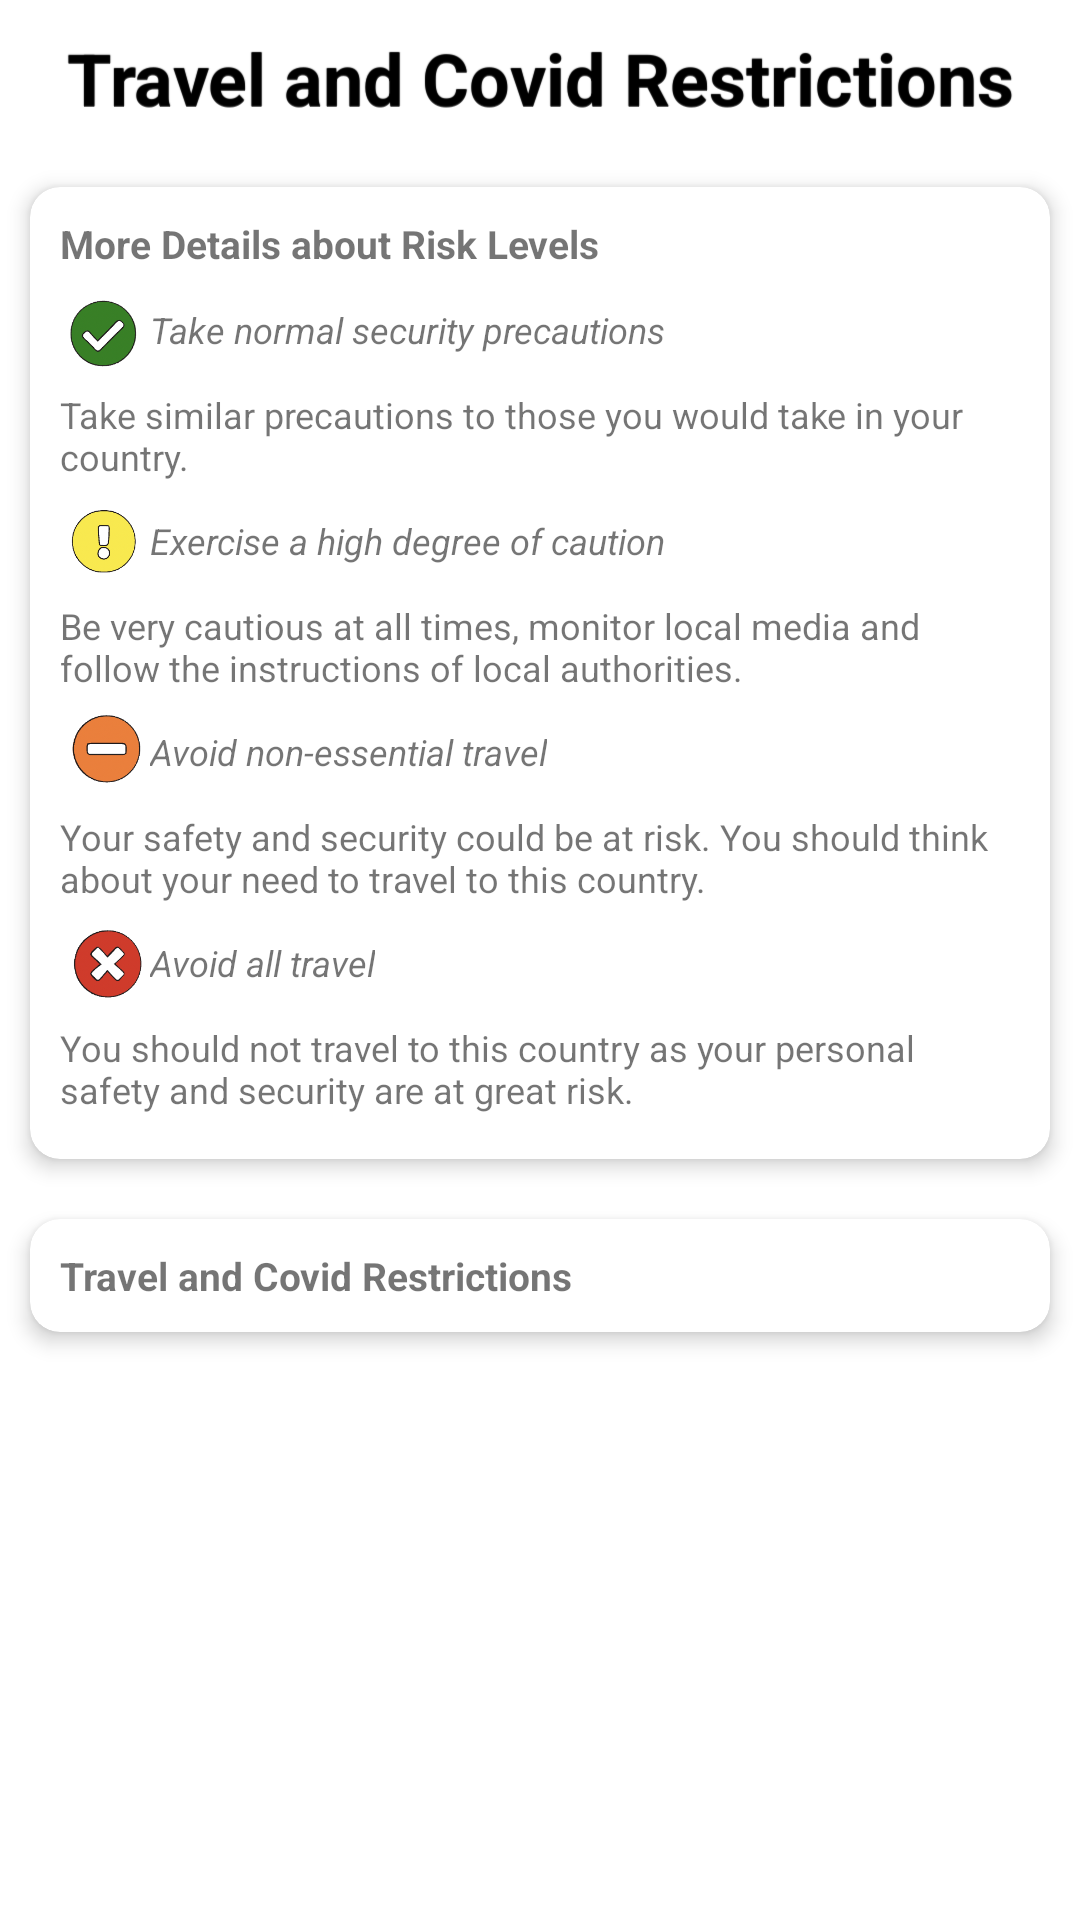

Icons on this 1080×1920 Android screen, each with its box as (x1, y1, x2, y2):
no travel: (74, 930, 142, 998)
